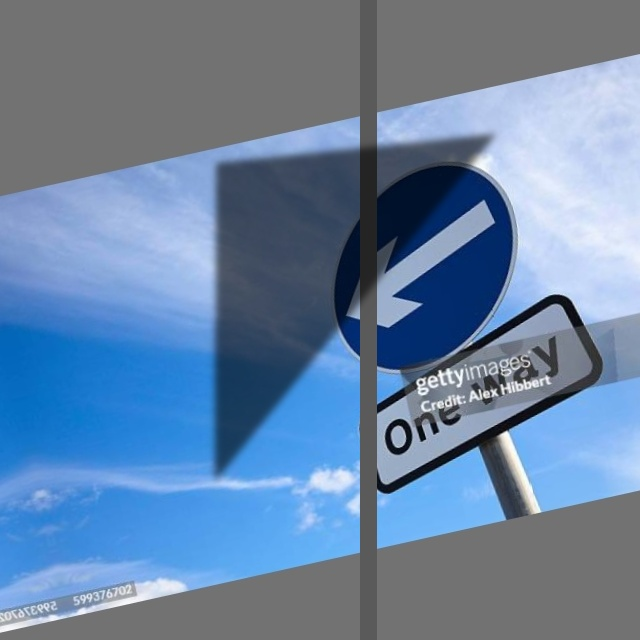Compulsory_Turn_Left: (297, 146, 539, 381)
